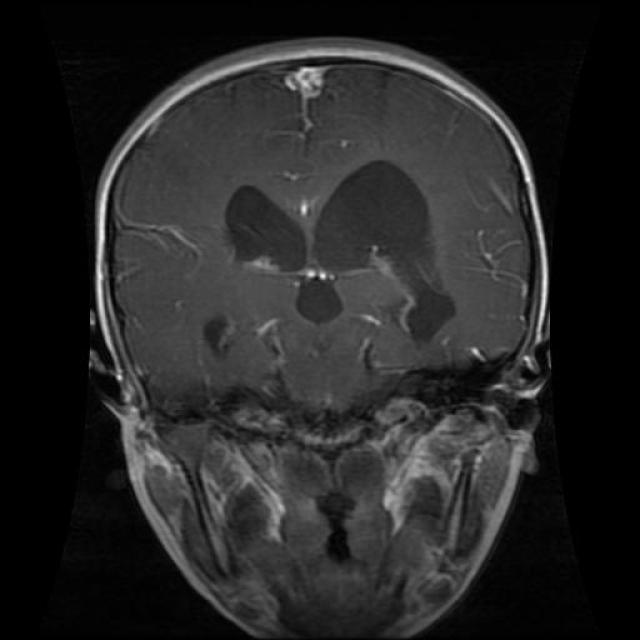glioma: (312, 162, 453, 340), (226, 183, 309, 277)
